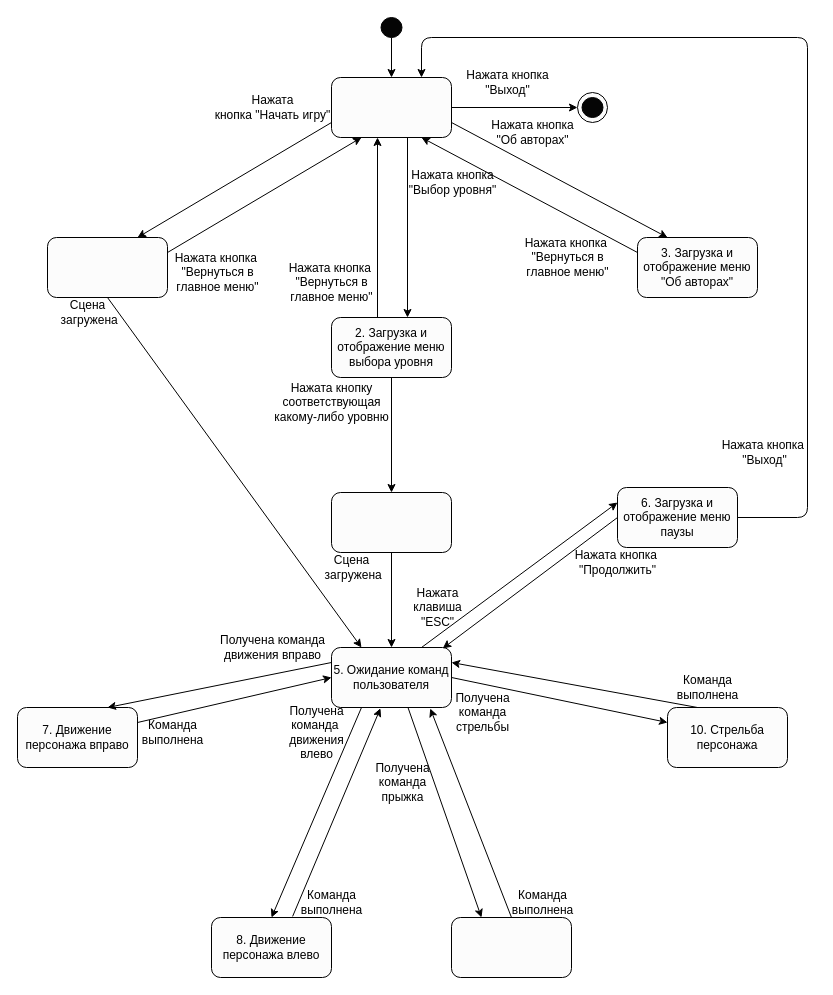
Some shapes in this 833 by 995 pixel diagram are drawn without their labels. Here are the shapes that lost their labels. From the top down, the box of each, then its label:
(330, 76, 452, 138): 0. Загрузка и отображение главного меню
(46, 236, 168, 298): 1. Загрузка сцены первого уровня
(330, 492, 452, 552): 4. Загрузка сцены выбранного уровня
(450, 916, 572, 978): 9. Прыжок персонажа
